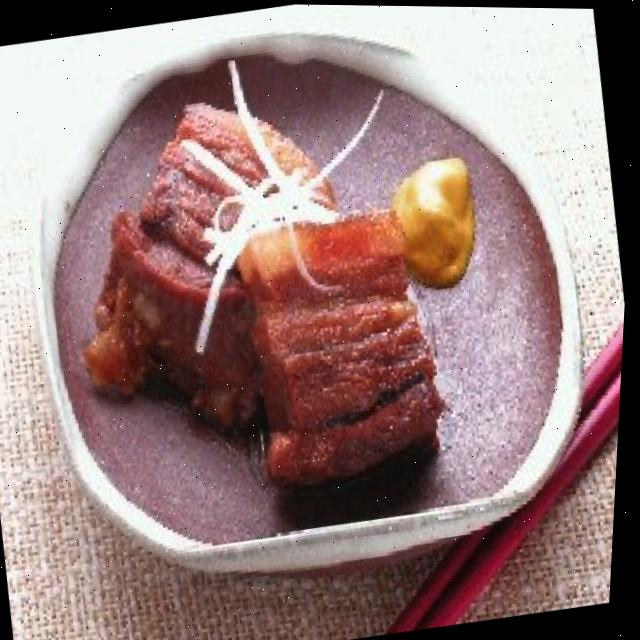猪肉菜式: (0, 0, 633, 614)
